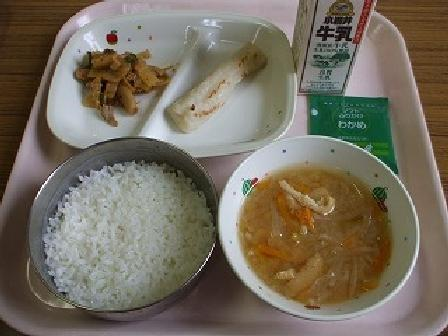Milk: (286, 0, 378, 94)
Rice: (26, 143, 222, 310)
snacks: (155, 34, 272, 136)
vegetable based cooked food: (56, 25, 169, 123)
vegetable soup: (220, 146, 421, 306)
